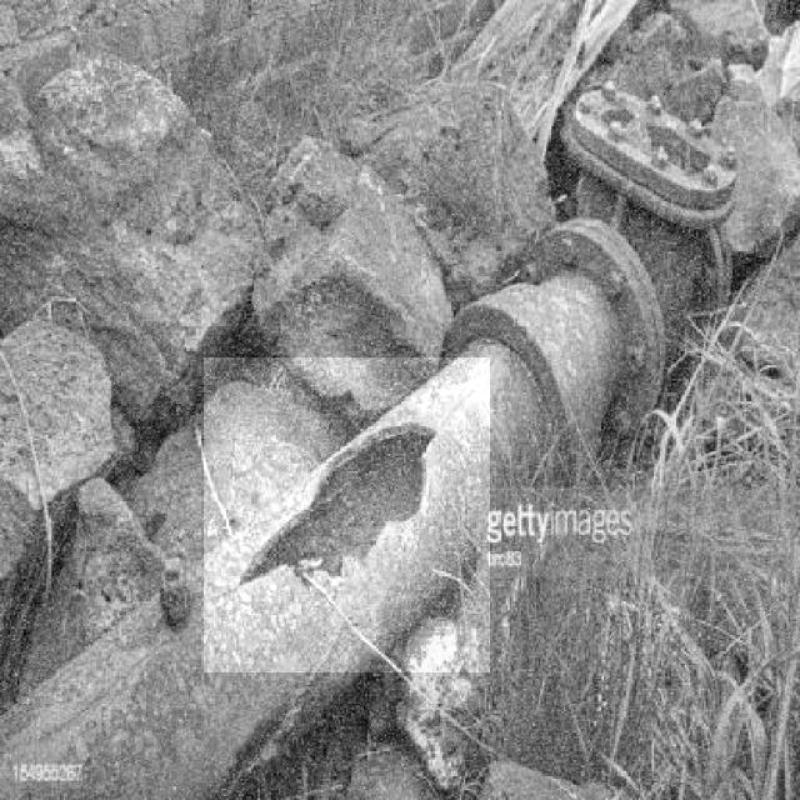Fracture: (215, 419, 454, 648)
